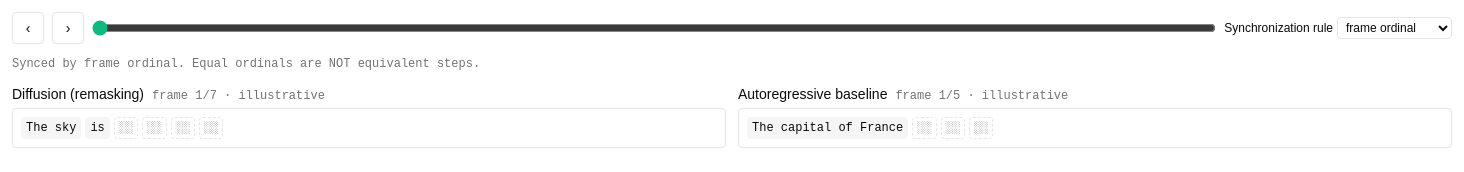
it: DiffusionComparison › advances both panes from the shared controls (frame-ordinal)
This screenshot has width=1464, height=172.
Click the button named "Next step".
click(68, 28)  # box [52, 12, 84, 44]
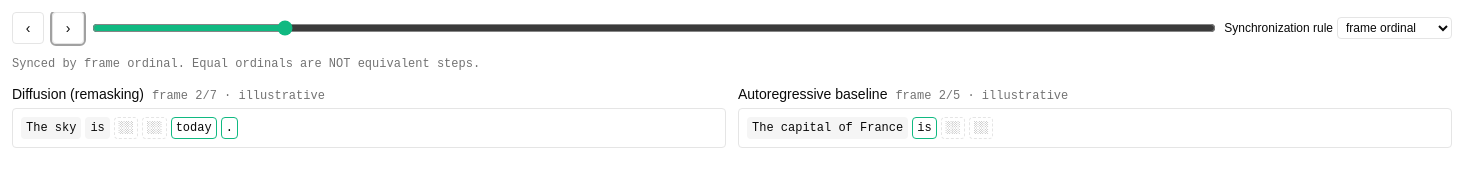
Click the button named "Next step".
click(68, 28)  # box [52, 12, 84, 44]
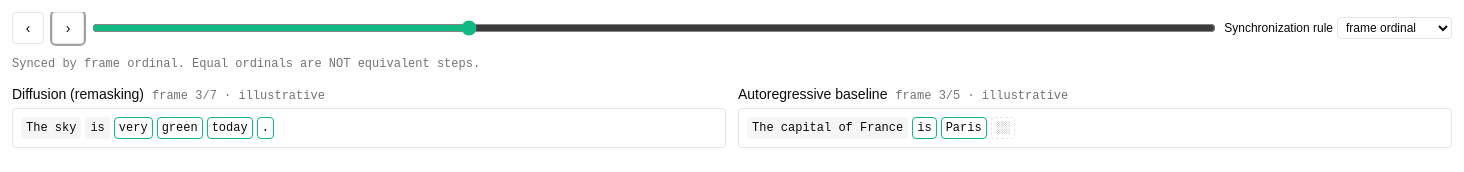
Click the button named "Next step".
click(68, 28)  # box [52, 12, 84, 44]
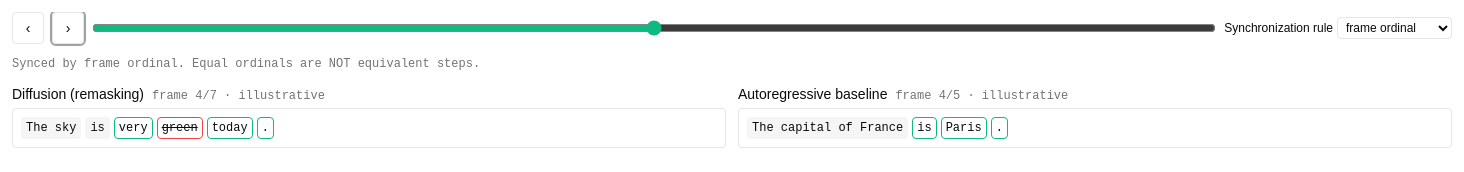
Expected: the text "frame 4/7 · illustrative" is shown, [152, 88, 325, 104]
Expected: the text "frame 4/5 · illustrative" is shown, [895, 88, 1068, 104]
